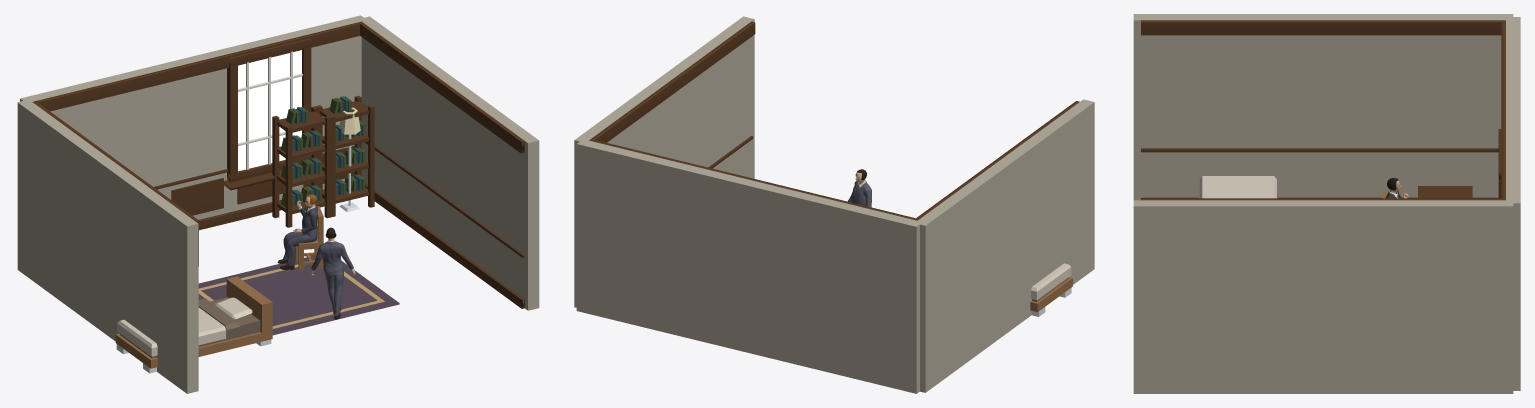
The model's file is stalin.glb.
The picture shows the model from 3 angles, left to right: view 1: azimuth 30°, elevation 25°; view 2: azimuth 150°, elevation 25°; view 3: azimuth 270°, elevation 25°; orthographic projection. The views are drawn at different scales.
Visible parts, largest first — view 1: wall_left, wall_right, wall_back, pane, box.026, box.006, bookcaseOpen(Clone).001, bedSingle(Clone).001, bookcaseOpen(Clone).002, box.008, cover.001, box.002 (+16 smaller); view 2: wall_back, wall_left, wall_right, box.008, box.006, box.007, cover.001, bedSingle(Clone).001, troyanovsky_Human.male_elegantsuit01; view 3: wall_right, wall_left, box.007, wall_back, box.004, cover.001, box.008, box.006, desk(Clone).001, box.001.
Boxes of the visible parts, x1,y1,x2,y2 form: wall_left: (17,101,198,393); wall_right: (359,16,539,310); wall_back: (20,15,366,219); pane: (238,50,301,171); box.026: (201,264,377,325); box.006: (33,21,361,111); bookcaseOpen(Clone).001: (272,106,331,227); bedSingle(Clone).001: (115,276,272,373); bookcaseOpen(Clone).002: (316,95,374,217); box.008: (360,22,524,153); cover.001: (117,298,239,356); box.002: (365,183,524,308); wall_back: (576,140,922,393); wall_left: (915,99,1094,392); wall_right: (574,16,754,307); box.008: (589,21,755,142); box.006: (590,139,916,220); box.007: (916,101,1079,220); cover.001: (1031,263,1071,300); bedSingle(Clone).001: (1030,277,1072,316); troyanovsky_Human.male_elegantsuit01: (847,180,871,207); wall_right: (1133,200,1513,393); wall_left: (1133,14,1513,200); box.007: (1141,20,1505,35); wall_back: (1506,17,1520,390); box.004: (1141,148,1498,152); cover.001: (1199,176,1276,198); box.008: (1141,198,1505,200); box.006: (1501,20,1505,199); desk(Clone).001: (1418,186,1472,198); box.001: (1141,197,1498,198).
Size of what is drawn, in the model's own units: 7.63 by 3.4 by 6.48.
